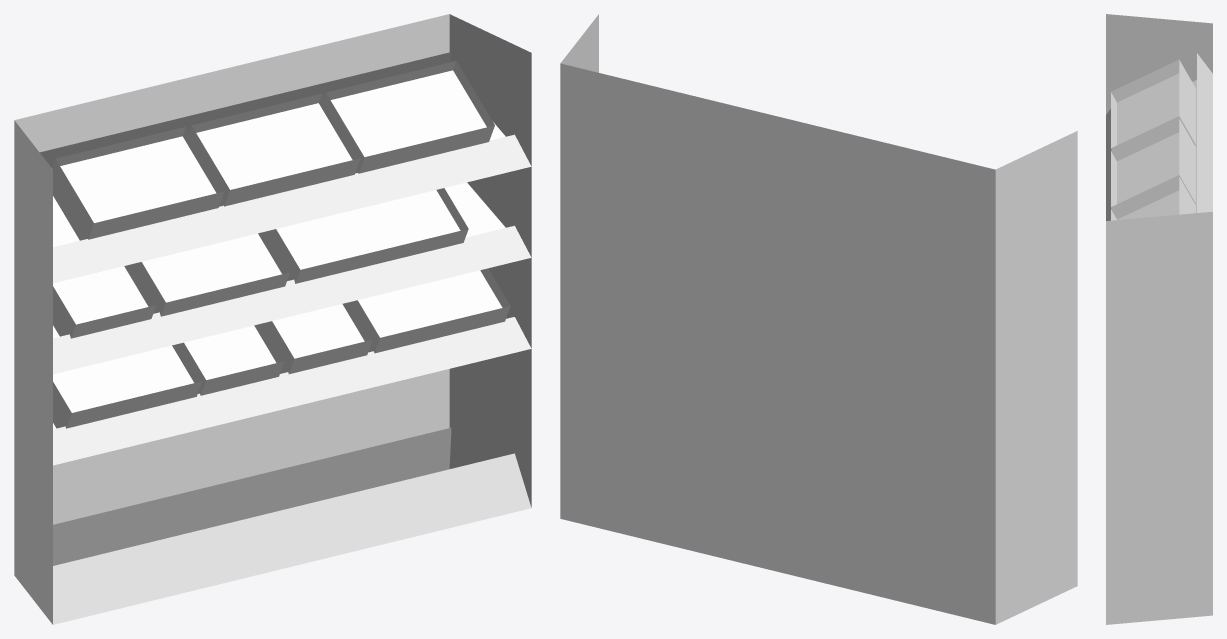
The model's file is shelve01.glb.
3 renders of one model, left to right at view 1: azimuth 30°, elevation 25°; view 2: azimuth 150°, elevation 25°; view 3: azimuth 270°, elevation 25°, orthographic. The views are drawn at different scales.
Parts seen in each view (by area): view 1: shelve_01; view 2: shelve_01; view 3: shelve_01.
Boxes of the visible parts, x1=… form: shelve_01: x1=14, y1=14, x2=531, y2=624; shelve_01: x1=560, y1=14, x2=1077, y2=624; shelve_01: x1=1106, y1=14, x2=1212, y2=624.
Size of the model in its own units: 2.2 by 2 by 0.48.
Materials: 1 (1 with a texture image).
